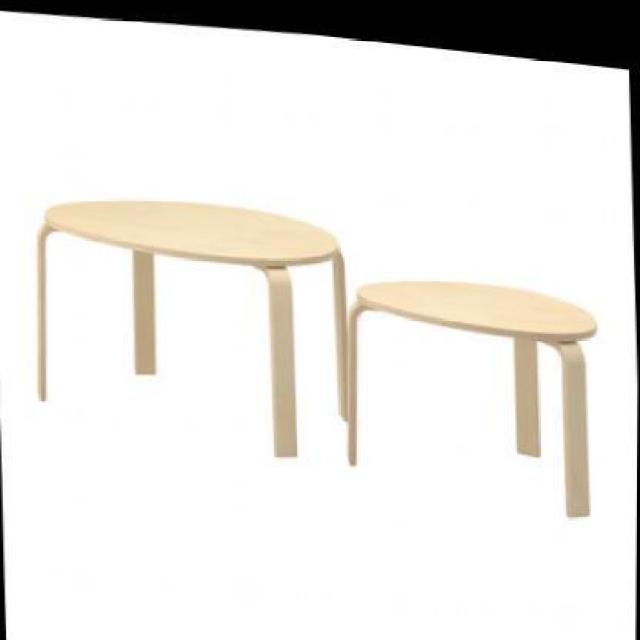tables: (36, 197, 350, 458), (346, 277, 597, 517)
